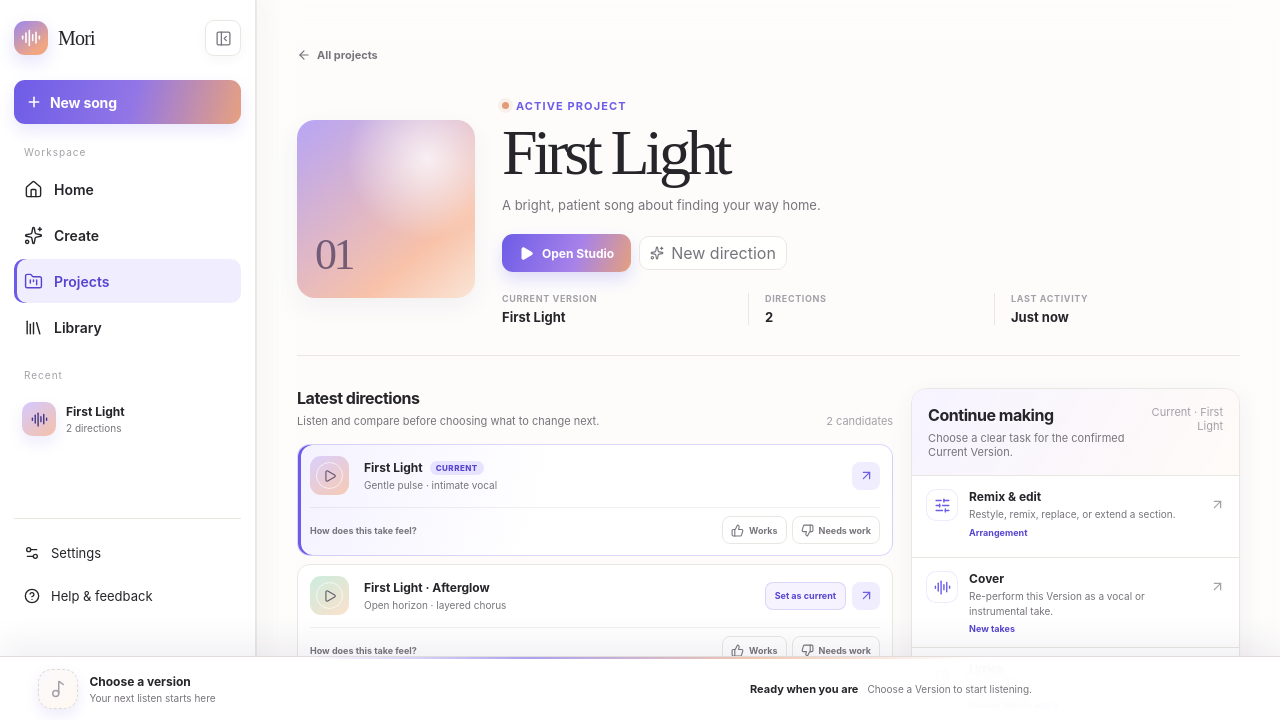
Scenario: Mori Project Current Version › retries a Project Current choice with the original idempotency identity
Click the button with aria-label "Set First Light · Afterglow as current" at (805, 596), box [765,582,846,610]
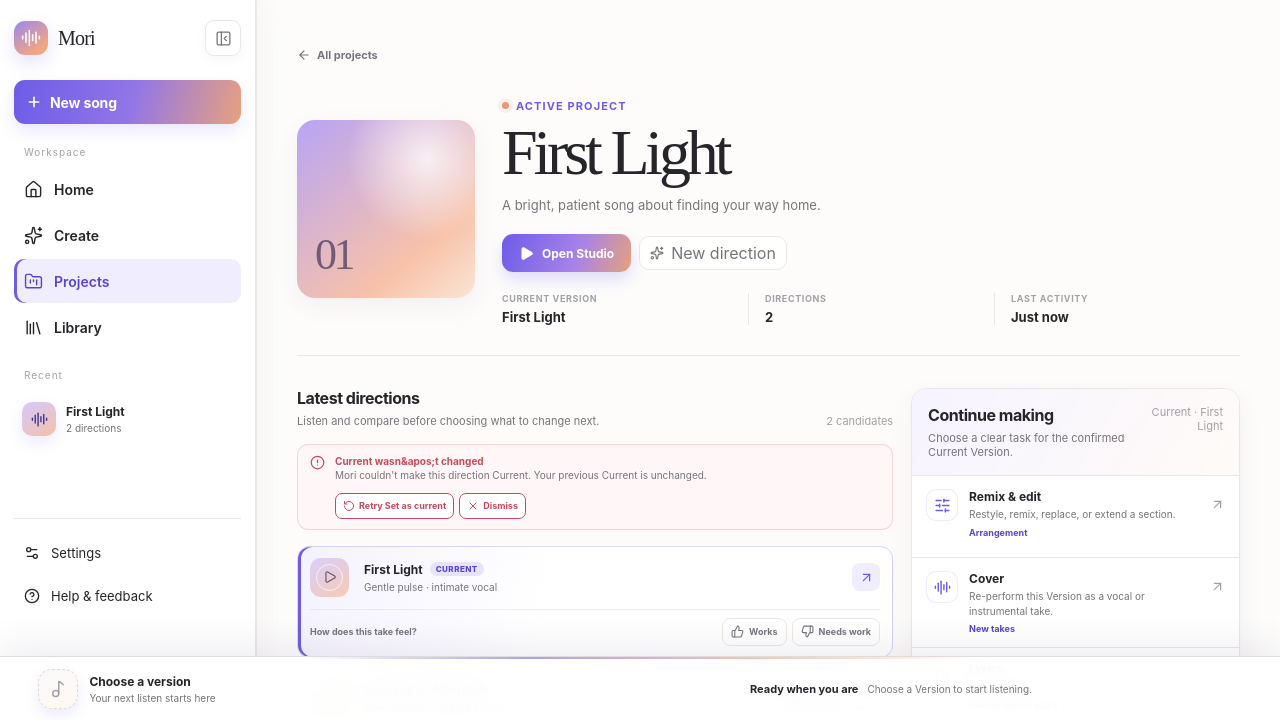
Now the message that starts with "Current wasn&apos;t changed" shows "Mori couldn't make this direction Current. Your previous Current is unchanged.", box [335,469,707,481]
Click the button "Retry Set as current" at (395, 506), box [335,493,454,519]
(page scrolled)
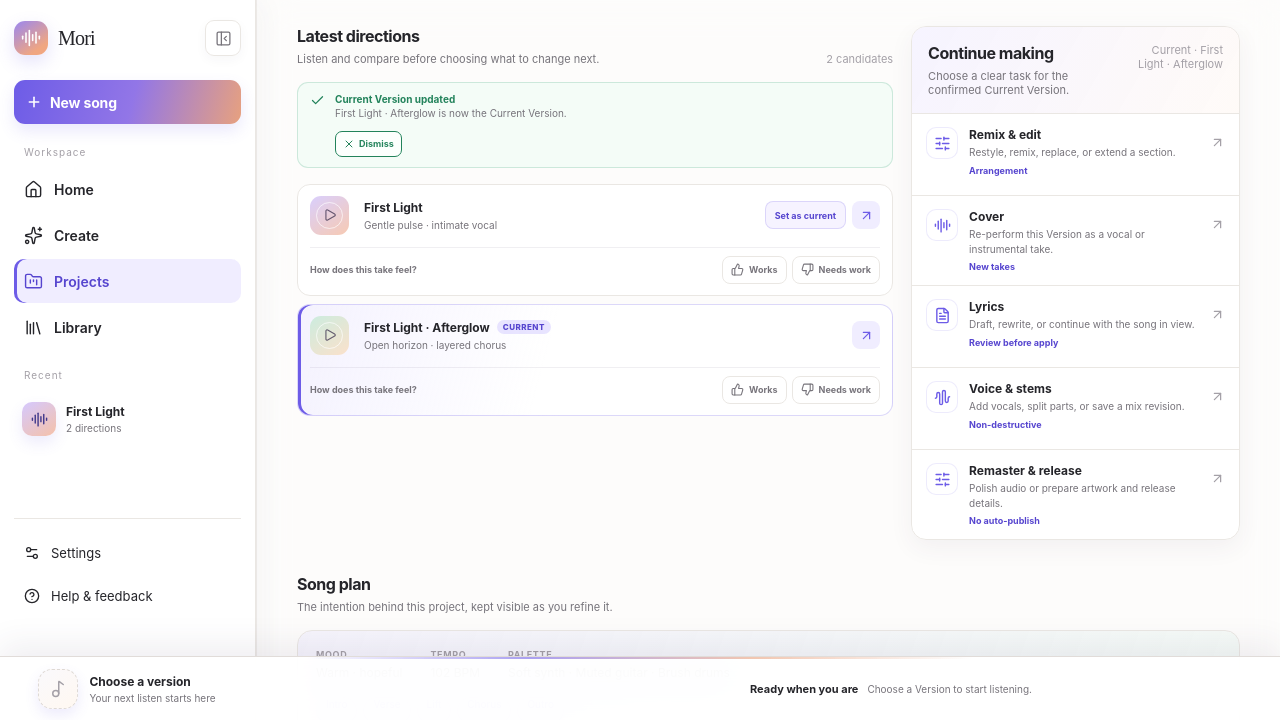
Expected: the element named "First Light · Afterglow, current version" shows "Current", [503,322,545,332]
Now the text "Current Version updated" is shown, box [335,93,455,105]
